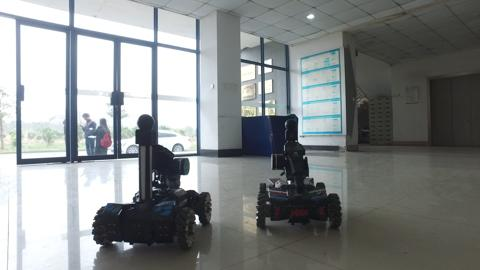chariot: (86, 107, 218, 249), (250, 112, 348, 244)
